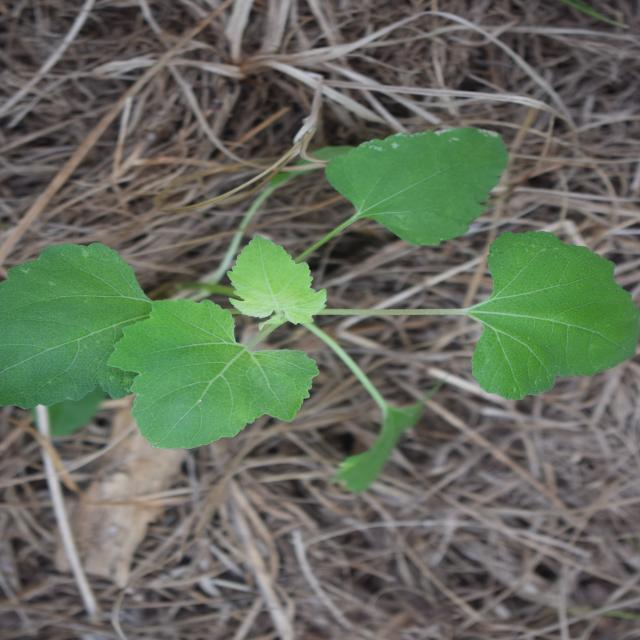cocklebur: (154, 12, 511, 603)
